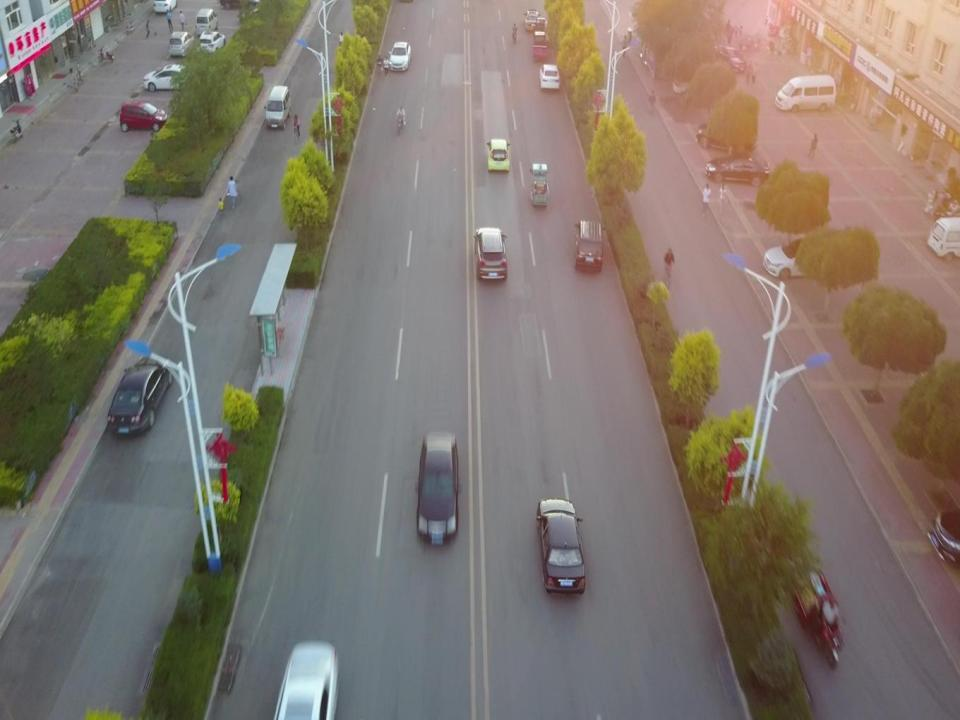car: (106, 356, 173, 437), (536, 499, 588, 595), (416, 431, 459, 543), (762, 236, 840, 279), (705, 154, 771, 184), (697, 120, 758, 152), (473, 226, 507, 282), (142, 63, 195, 91), (117, 102, 167, 130), (716, 44, 746, 74), (486, 139, 509, 175), (198, 28, 224, 55), (168, 30, 193, 57), (388, 44, 410, 74), (539, 63, 561, 90), (524, 8, 540, 34), (152, 0, 176, 14), (126, 19, 136, 35)
van: (776, 75, 836, 110), (926, 215, 960, 256), (265, 86, 290, 132), (196, 6, 218, 34)
